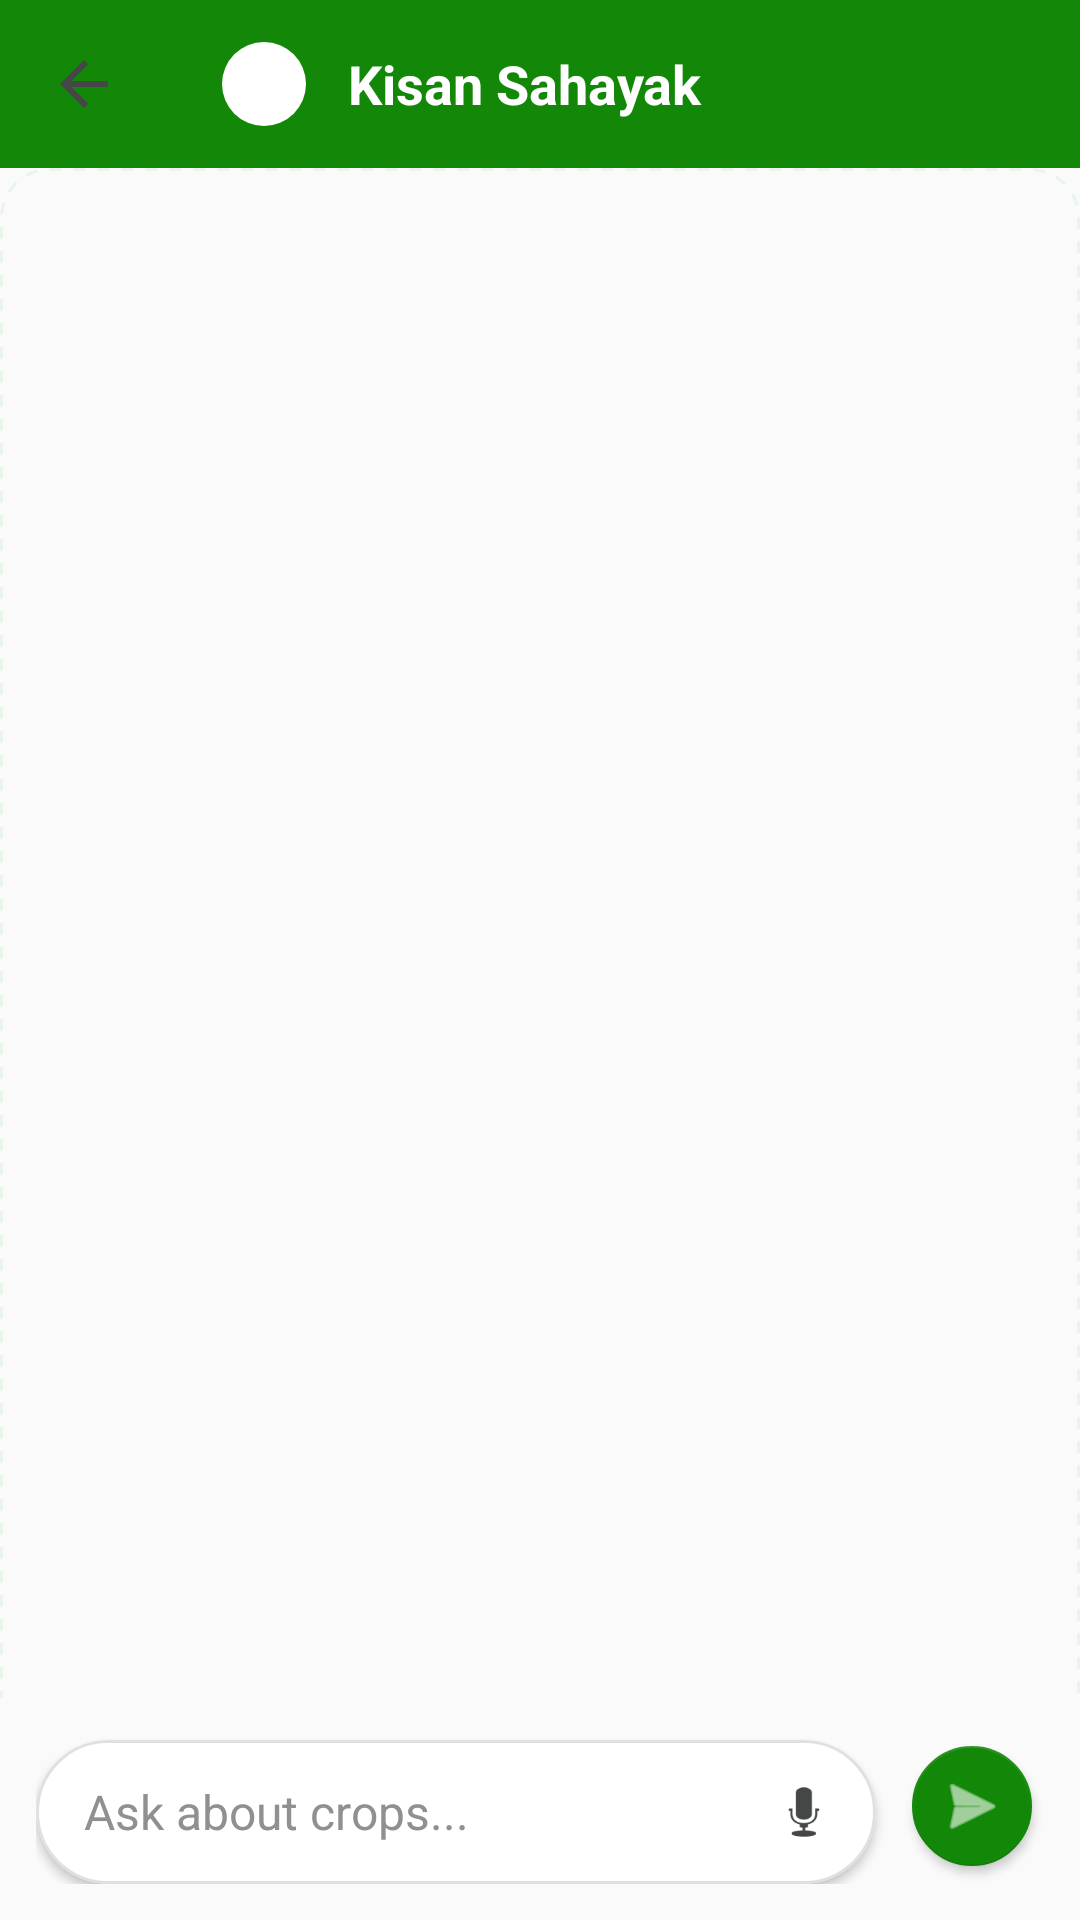

Named icons in this screenshot (1080px×1920px) and their bounding boxes, (x1, y1, x2, y2):
Send Message: (912, 1746, 1033, 1872)
